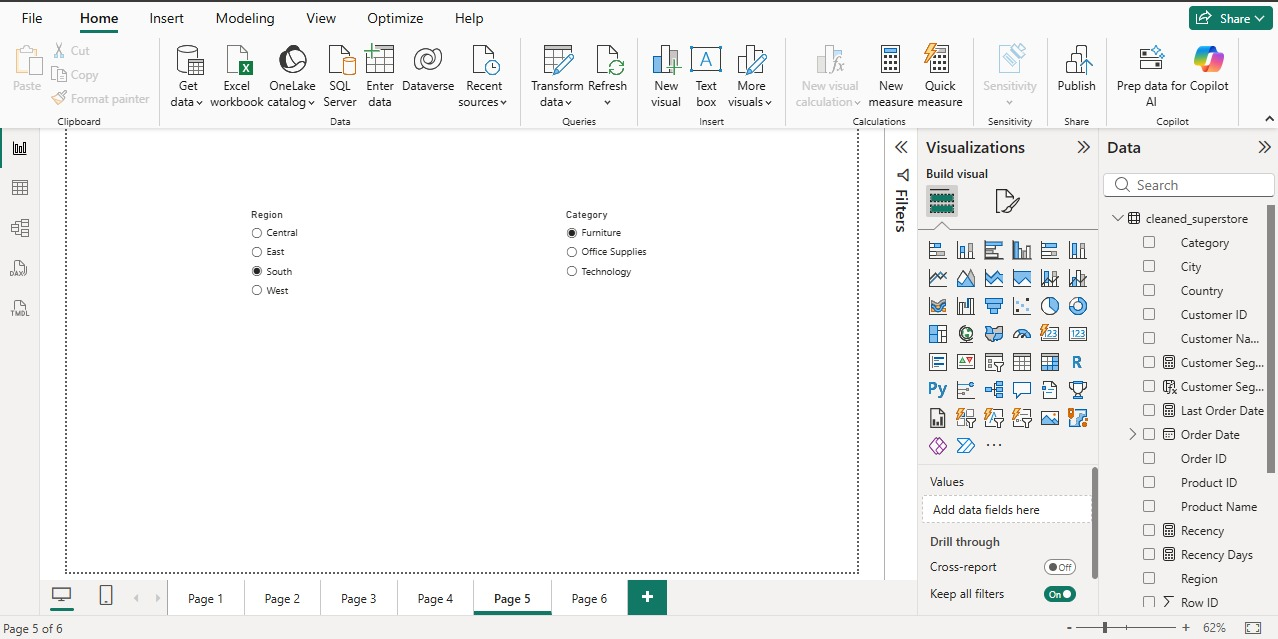

The dashboard page shown, as its layout file describes it:
{"tool":"powerbi","page":{"name":"Page 5","canvas":[1280,720],"ordinal":4},"visuals":[{"type":"listSlicer","fields":{"Values":["cleaned_superstore.Region"]},"box":[293.5,129.7,280.5,278.9],"z":0},{"type":"listSlicer","fields":{"Values":["cleaned_superstore.Category"]},"box":[804.3,129.7,280.5,278.9],"z":1000}]}

Visuals, with their boxes on the page's 1280x720 design canvas (x1, y1, x2, y2). These are canvas units, not pixel positions in the 1278x639 screenshot, which may show the page scaled, cropped or inside an application window:
listSlicer - cleaned_superstore.Region: x1=294, y1=130, x2=574, y2=409
listSlicer - cleaned_superstore.Category: x1=804, y1=130, x2=1085, y2=409
